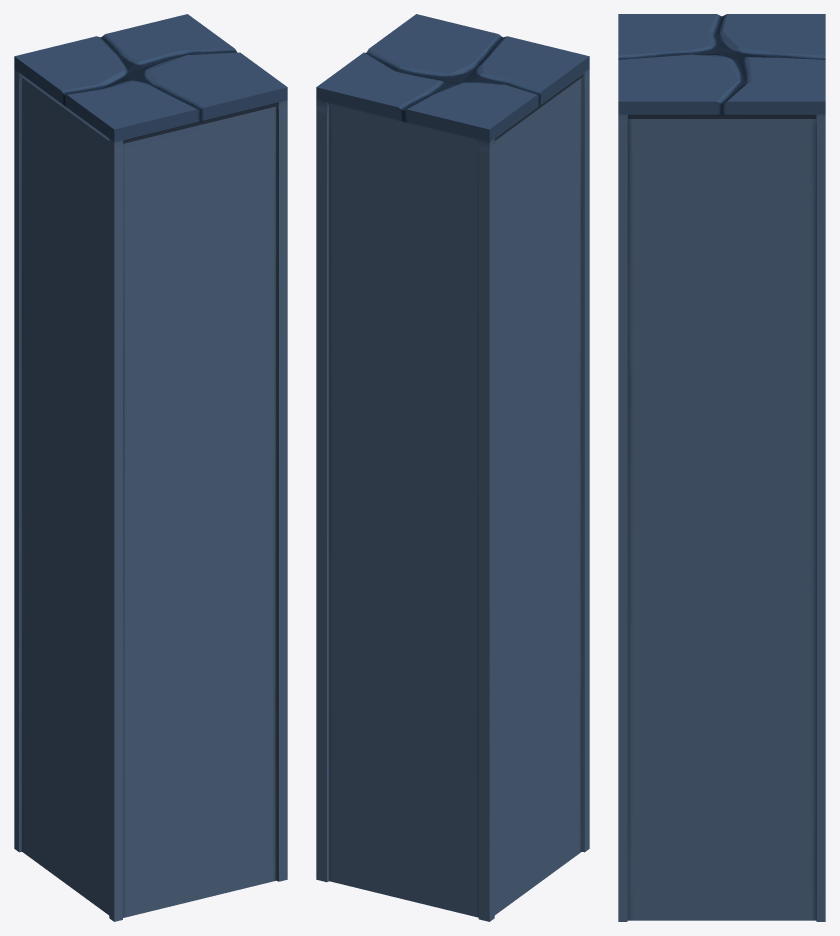
File: WallV1_20220505.obj
3 renders of one model, left to right at view 1: azimuth 30°, elevation 25°; view 2: azimuth 150°, elevation 25°; view 3: azimuth 270°, elevation 25°, orthographic. The views are drawn at different scales.
Parts seen in each view (by area): view 1: pCube1; view 2: pCube1; view 3: pCube1.
Boxes of the visible parts, x1,y1,x2,y2 form: pCube1: [14, 14, 287, 921]; pCube1: [316, 14, 589, 921]; pCube1: [618, 14, 825, 921].
Bounding box in the file's own units: 3 × 13.1 × 3.
